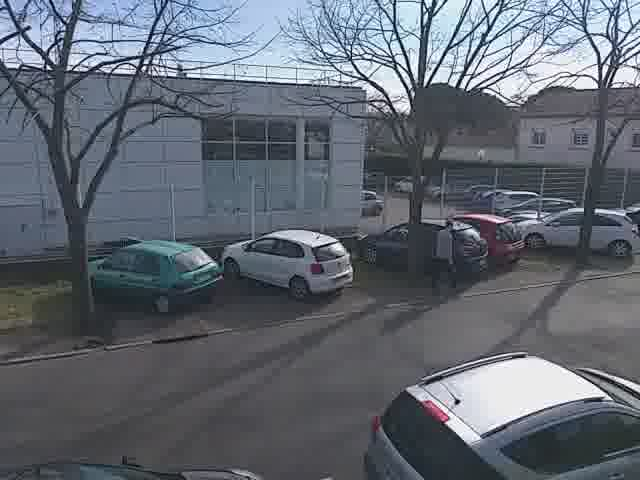persona: (427, 211, 465, 296)
